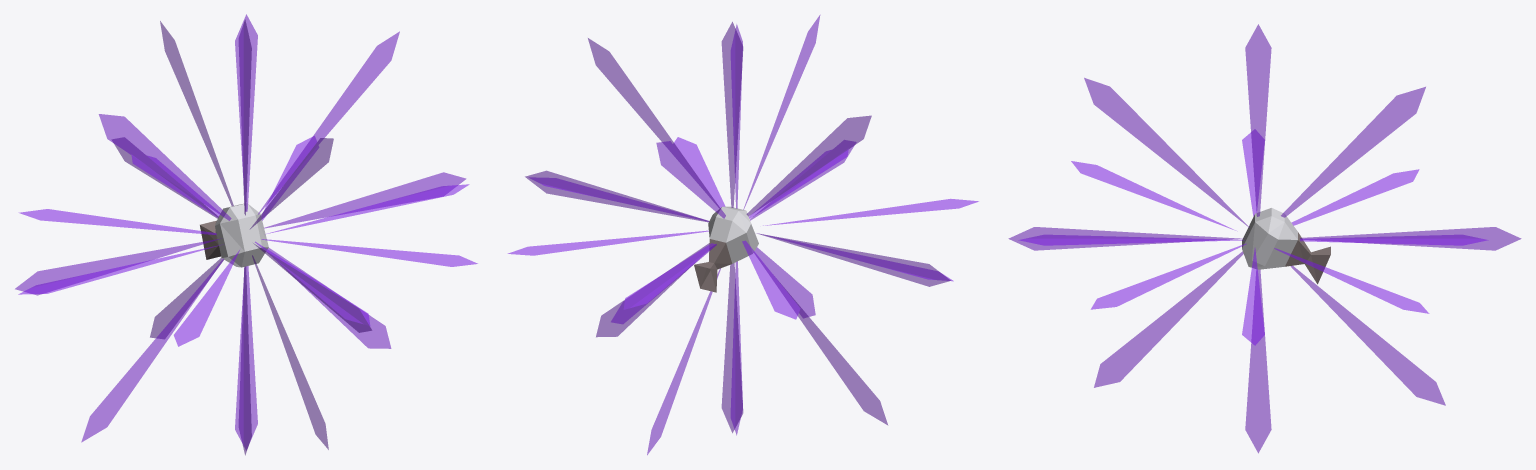
The model's file is model_3112_spotanim.obj.
3 views of the same model, side by side, from view 1: azimuth 30°, elevation 25°; view 2: azimuth 150°, elevation 25°; view 3: azimuth 270°, elevation 25° (orthographic). The views are drawn at different scales.
Parts seen in each view (by area): view 1: 3112; view 2: 3112; view 3: 3112.
Boxes of the visible parts, x1=… form: 3112: x1=15, y1=14, x2=477, y2=455; 3112: x1=508, y1=15, x2=978, y2=454; 3112: x1=1008, y1=24, x2=1521, y2=453.
Size of the model in its own units: 156 by 145 by 156.
